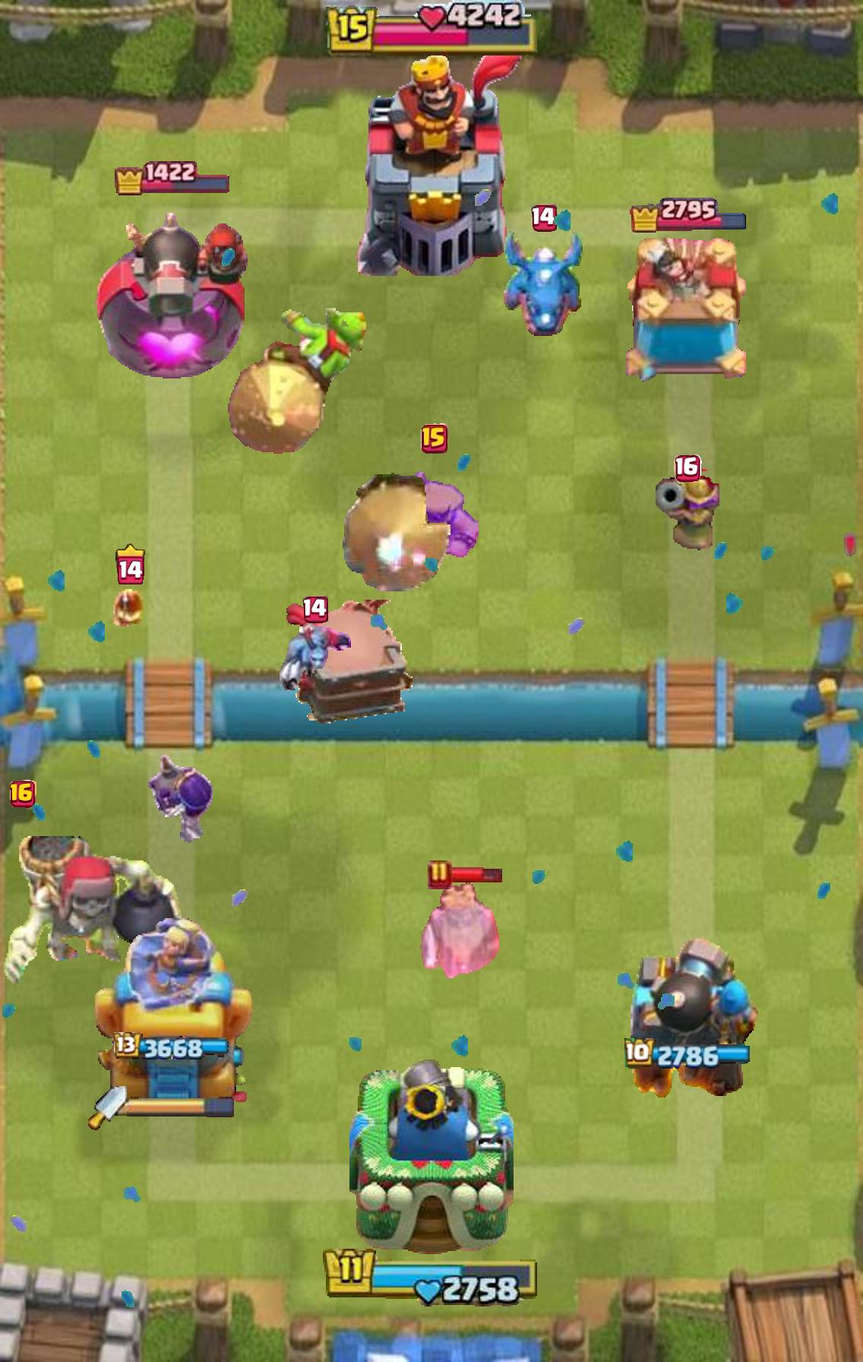bar: (448, 865, 503, 885)
bar-level: (116, 543, 145, 584), (420, 423, 449, 454), (674, 455, 702, 483), (9, 779, 36, 808), (302, 595, 328, 624), (531, 203, 557, 231), (428, 860, 452, 890)
